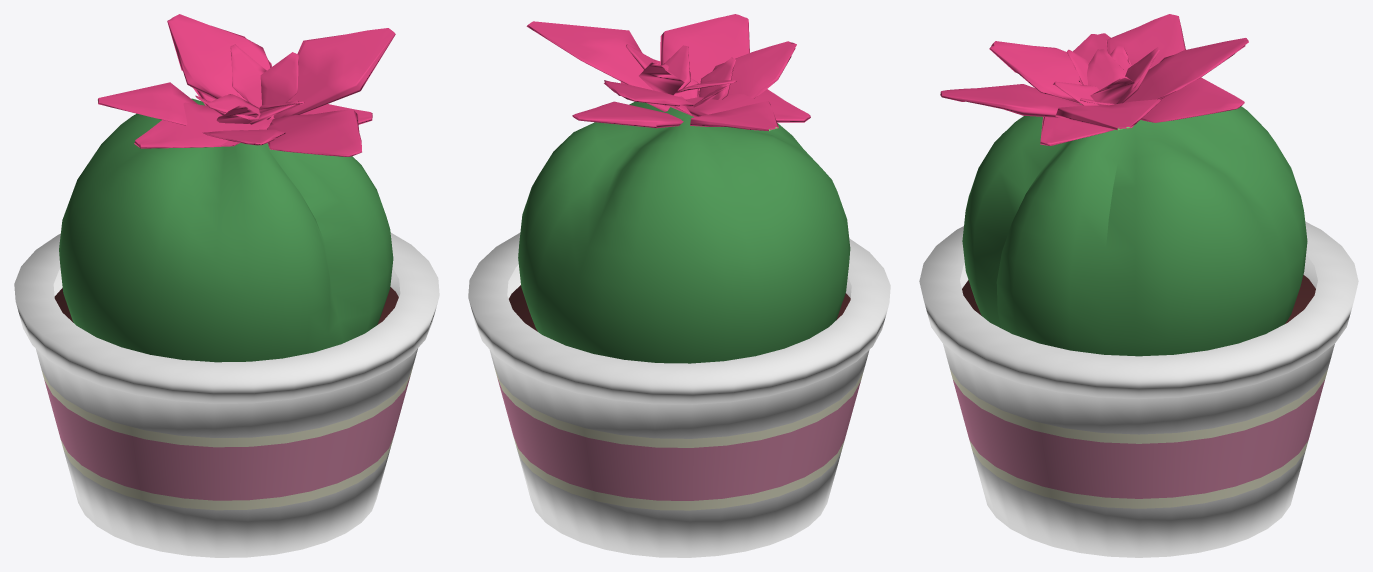
File: pottedplant2.fbx
The picture shows the model from 3 angles, left to right: view 1: azimuth 30°, elevation 25°; view 2: azimuth 150°, elevation 25°; view 3: azimuth 270°, elevation 25°; orthographic projection. The views are drawn at different scales.
Visible parts, largest first — view 1: Cylinder.001, Sphere, Cube.003; view 2: Cylinder.001, Sphere, Cube.003; view 3: Cylinder.001, Sphere, Cube.003.
Part boxes in pixels (box(x1,y1,x2,y2)): Cylinder.001: box(14, 232, 439, 557); Sphere: box(59, 98, 393, 362); Cube.003: box(98, 14, 395, 156); Cylinder.001: box(468, 233, 890, 557); Sphere: box(518, 101, 850, 363); Cube.003: box(526, 14, 810, 130); Cylinder.001: box(919, 221, 1358, 557); Sphere: box(962, 104, 1307, 356); Cube.003: box(940, 14, 1248, 145).
Bounding box in the file's own units: 207 × 235 × 207.
